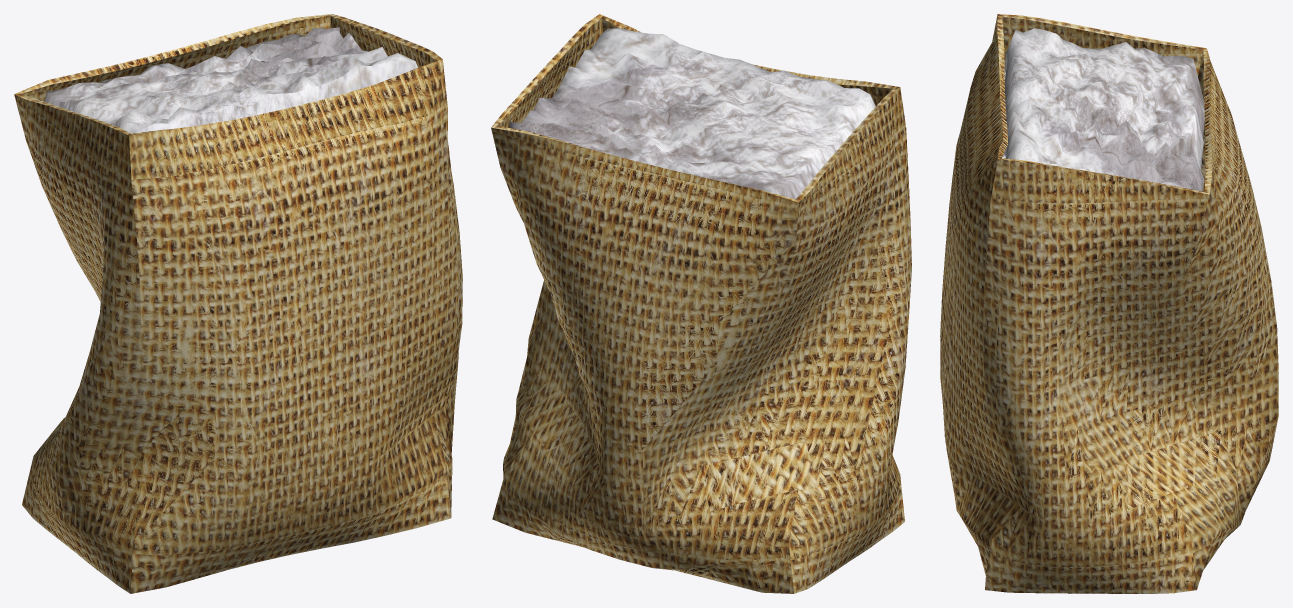
The picture shows the model from 3 angles, left to right: view 1: azimuth 30°, elevation 25°; view 2: azimuth 150°, elevation 25°; view 3: azimuth 270°, elevation 25°; orthographic projection. The views are drawn at different scales.
Parts seen in each view (by area): view 1: Sack, AN; view 2: Sack, AN; view 3: Sack, AN.
Part boxes in pixels (<box>): Sack: <box>14,14,462,593</box>; AN: <box>44,27,417,133</box>; Sack: <box>491,14,911,593</box>; AN: <box>509,28,875,199</box>; Sack: <box>940,14,1278,593</box>; AN: <box>1002,28,1204,191</box>.
Size of the model in its own units: 61.34 by 70.98 by 49.69.
2 materials, 2 textured.
